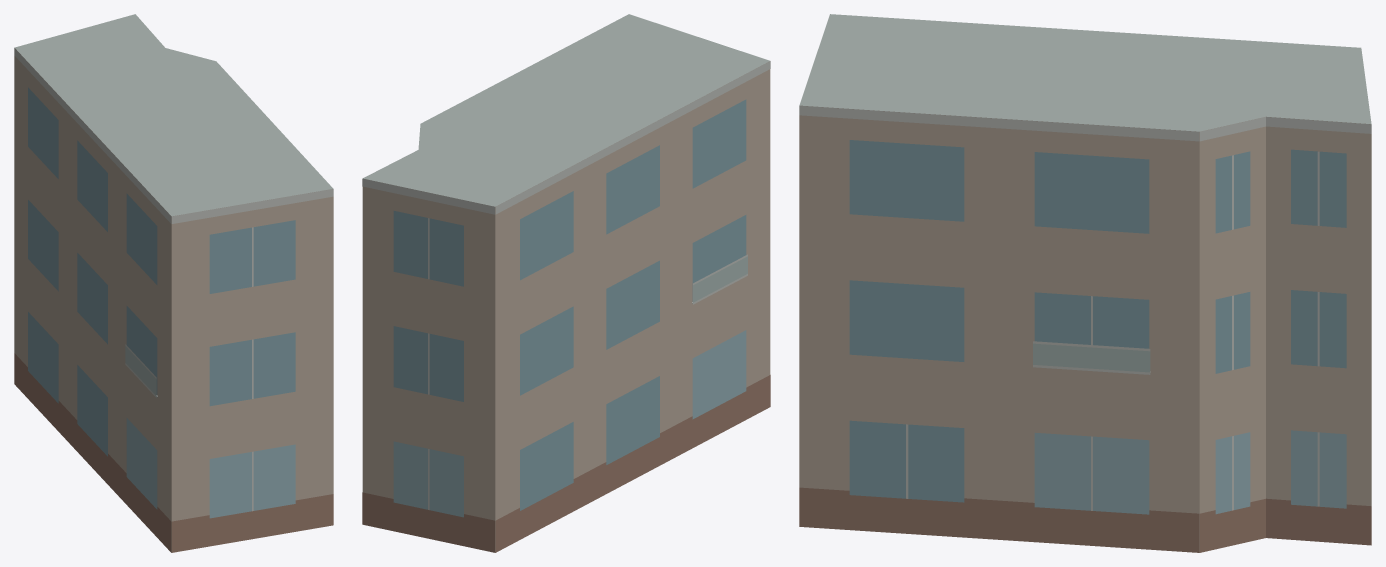
The model's file is survey-upis-32503430.glb.
3 views of the same model, side by side, from view 1: azimuth 30°, elevation 25°; view 2: azimuth 150°, elevation 25°; view 3: azimuth 270°, elevation 25° (orthographic). The views are drawn at different scales.
Parts seen in each view (by area): view 1: survey-upis-32503430.tmp; view 2: survey-upis-32503430.tmp; view 3: survey-upis-32503430.tmp.
Boxes of the visible parts, x1,y1,x2,y2 form: survey-upis-32503430.tmp: [14, 14, 333, 552]; survey-upis-32503430.tmp: [362, 14, 770, 552]; survey-upis-32503430.tmp: [799, 14, 1371, 552].
Size of the model in its own units: 6.3 by 10.5 by 12.94.
